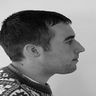ear: (22, 40, 44, 61)
